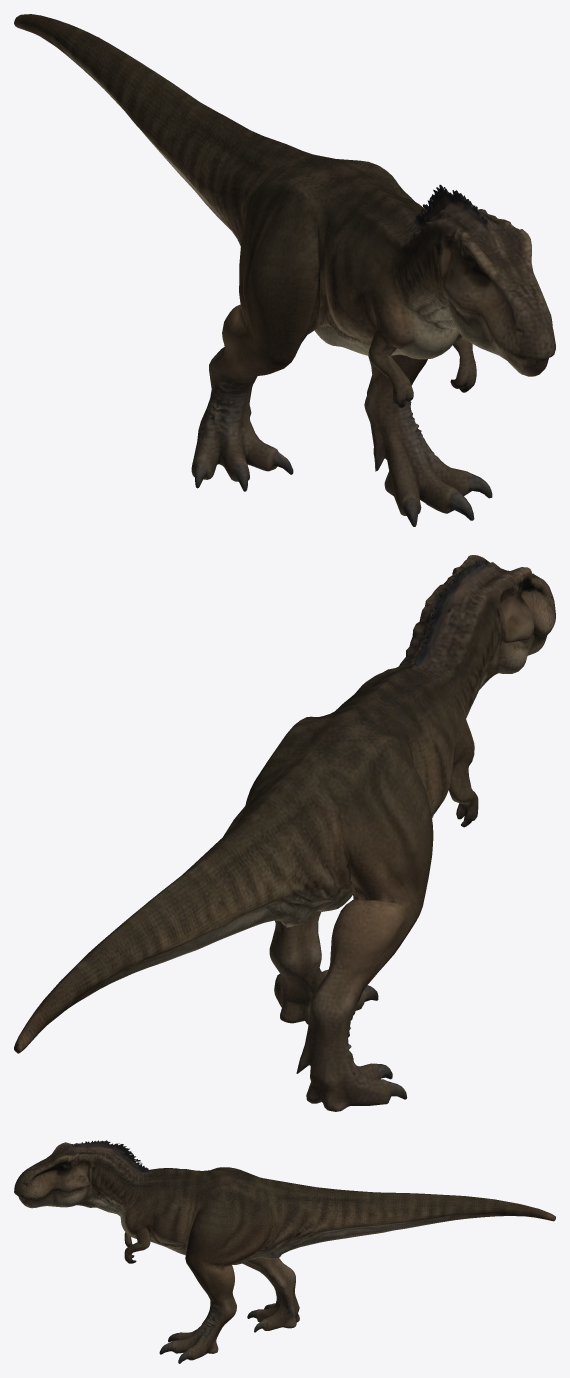
Rendered from trex-adult.glb.
The picture shows the model from 3 angles, top to bottom: view 1: azimuth 30°, elevation 25°; view 2: azimuth 150°, elevation 25°; view 3: azimuth 270°, elevation 25°; orthographic projection. The views are drawn at different scales.
Parts seen in each view (by area): view 1: world; view 2: world; view 3: world.
Part boxes in pixels (left/top/right/bottom): world: left=14, top=14, right=555, bottom=526; world: left=14, top=555, right=555, bottom=1111; world: left=14, top=1140, right=555, bottom=1363.
Bounding box in the file's own units: 0.2316 × 0.4027 × 1.
1 material, 1 textured.
